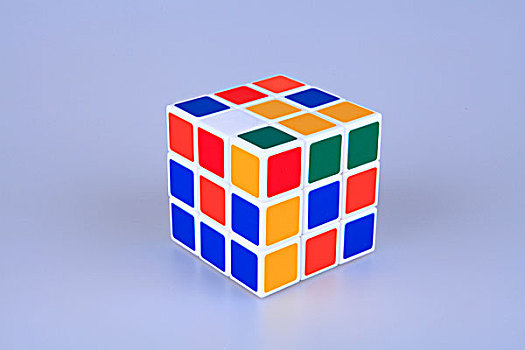cube: (168, 70, 380, 301)
